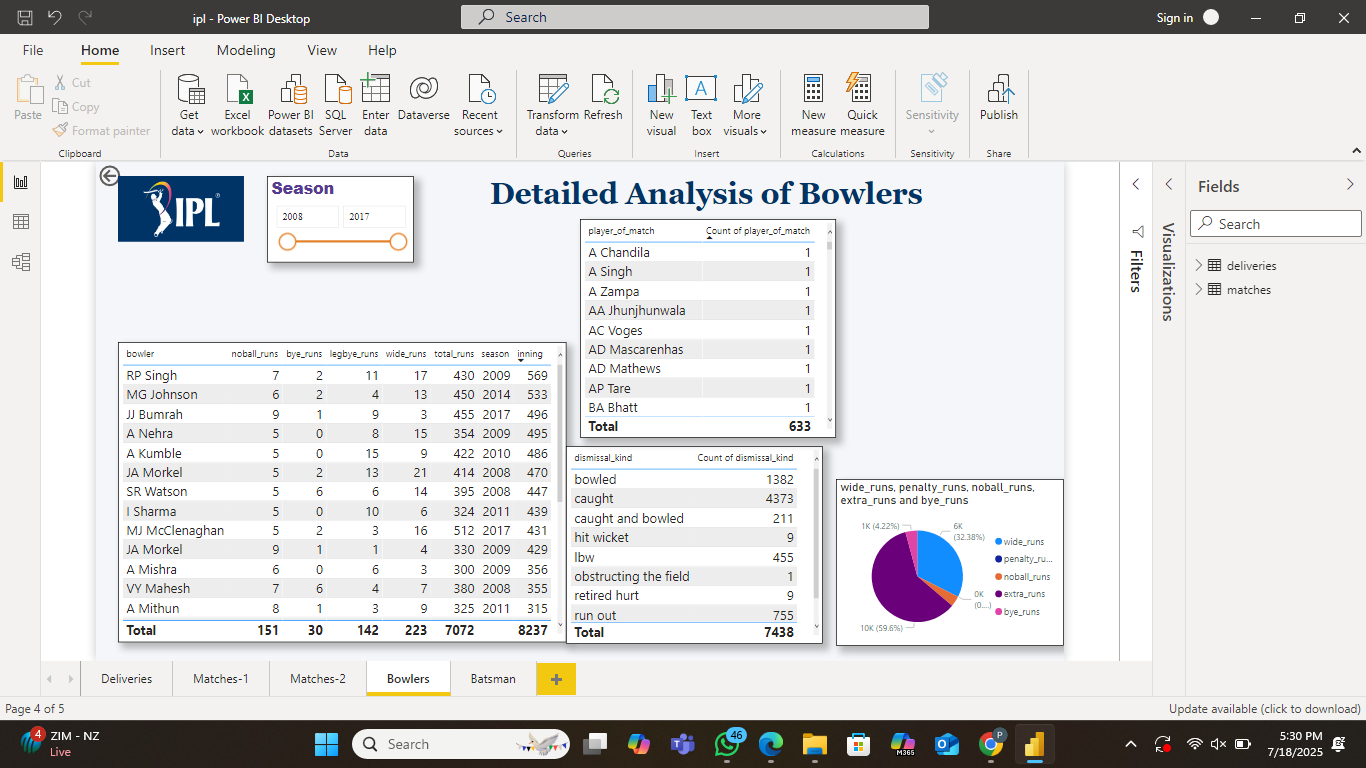

What the dashboard file says about the page in this screenshot:
{"tool":"powerbi","page":{"name":"Bowlers","canvas":[1398,721],"ordinal":3},"visuals":[{"type":"actionButton","box":[0,0,100,40],"z":0},{"type":"image","box":[31.6,19.5,181.9,94.7],"z":1000},{"type":"slicer","title":"Season","fields":{"Values":["matches.season"]},"box":[246.5,19.5,212,124.8],"z":2000},{"type":"textbox","box":[527.6,18,741.1,96.2],"z":3000},{"type":"tableEx","fields":{"Values":["deliveries.bowler","Sum(deliveries.noball_runs)","Sum(deliveries.bye_runs)","Sum(deliveries.legbye_runs)","Sum(deliveries.wide_runs)","Sum(deliveries.total_runs)","matches.season","Sum(deliveries.inning)"]},"box":[31.6,260.1,647.9,434.4],"z":4000},{"type":"tableEx","fields":{"Values":["deliveries.dismissal_kind","CountNonNull(deliveries.dismissal_kind)"]},"box":[679.5,410.4,371.3,285.6],"z":5000},{"type":"pieChart","fields":{"Y":["Sum(deliveries.wide_runs)","Sum(deliveries.penalty_runs)","Sum(deliveries.noball_runs)","Sum(deliveries.extra_runs)","Sum(deliveries.bye_runs)"]},"box":[1068.8,458.5,329.2,240.5],"z":6000},{"type":"tableEx","fields":{"Values":["matches.player_of_match","CountNonNull(matches.player_of_match)"]},"box":[699,82.7,369.8,315.7],"z":7000}]}

Visuals, with their boxes on the page's 1398x721 design canvas (x1, y1, x2, y2). These are canvas units, not pixel positions in the 1366x768 screenshot, which may show the page scaled, cropped or inside an application window:
actionButton: BBox(0, 0, 100, 40)
image: BBox(32, 20, 214, 114)
"Season" slicer: BBox(246, 20, 458, 144)
textbox: BBox(528, 18, 1269, 114)
tableEx - deliveries.bowler x Sum(deliveries.noball_runs): BBox(32, 260, 680, 694)
tableEx - deliveries.dismissal_kind x CountNonNull(deliveries.dismissal_kind): BBox(680, 410, 1051, 696)
pieChart - Sum(deliveries.wide_runs) x Sum(deliveries.penalty_runs): BBox(1069, 458, 1398, 699)
tableEx - matches.player_of_match x CountNonNull(matches.player_of_match): BBox(699, 83, 1069, 398)
